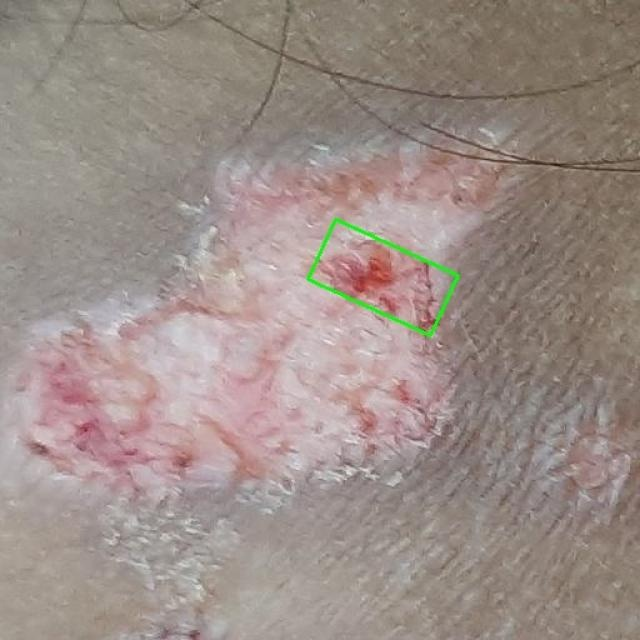Eczema: (308, 220, 458, 336)
